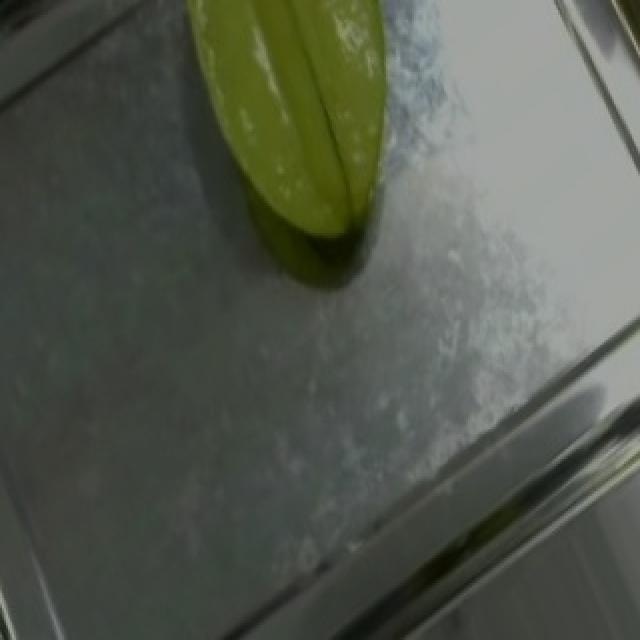fruit: (124, 0, 452, 280)
